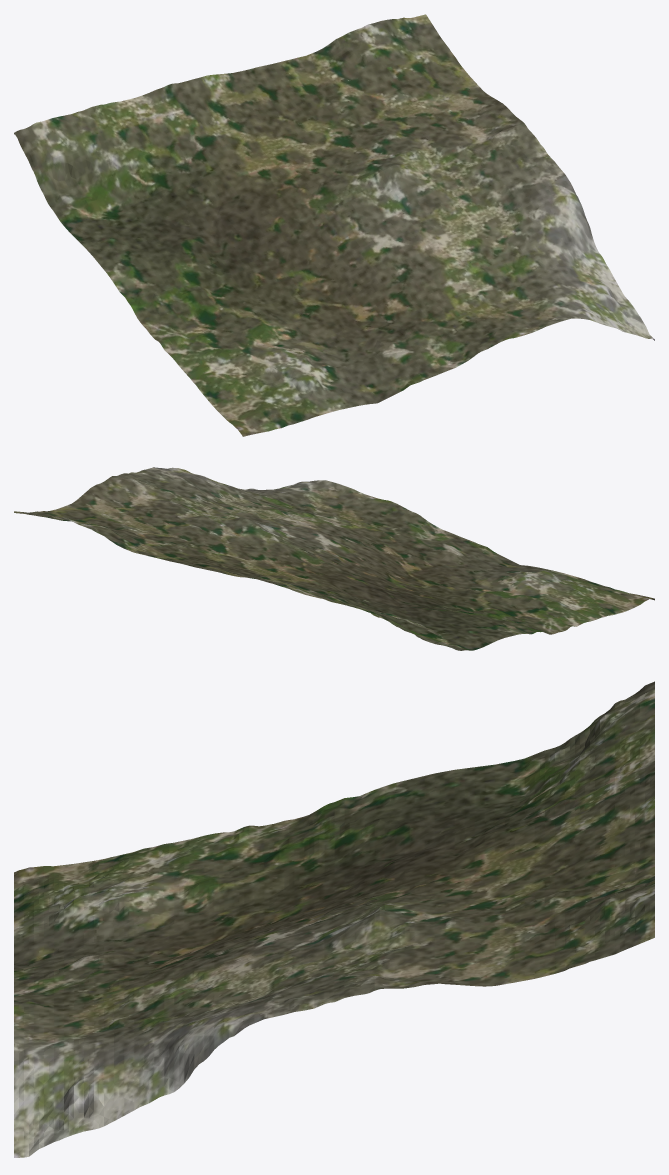
3 renders of one model, top to bottom at view 1: azimuth 30°, elevation 25°; view 2: azimuth 150°, elevation 25°; view 3: azimuth 270°, elevation 25°, orthographic. The views are drawn at different scales.
Bounding box in the file's own units: 250 × 94.84 × 241.
1 material, 1 textured.
